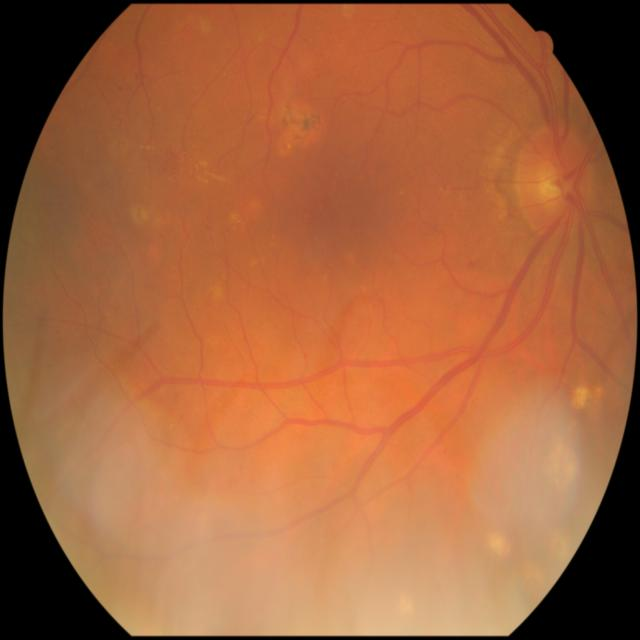OC: (539, 164, 572, 204)
OD: (516, 128, 604, 240)
